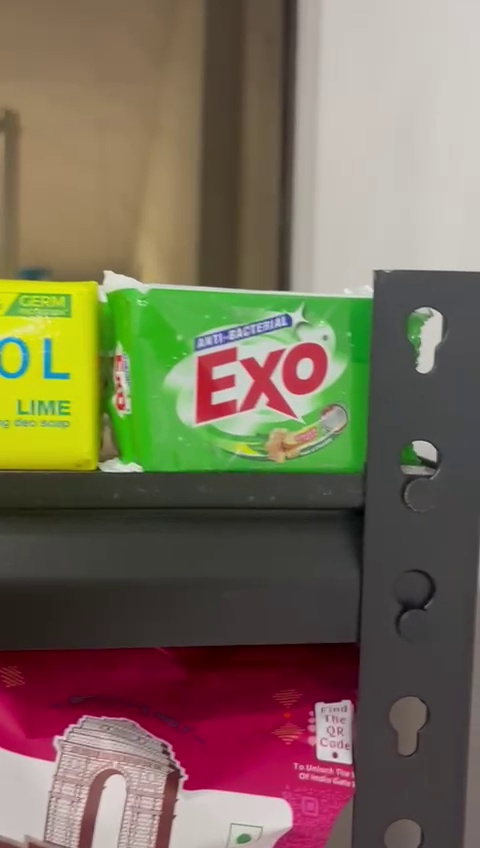Exo Soap: (106, 284, 371, 474)
